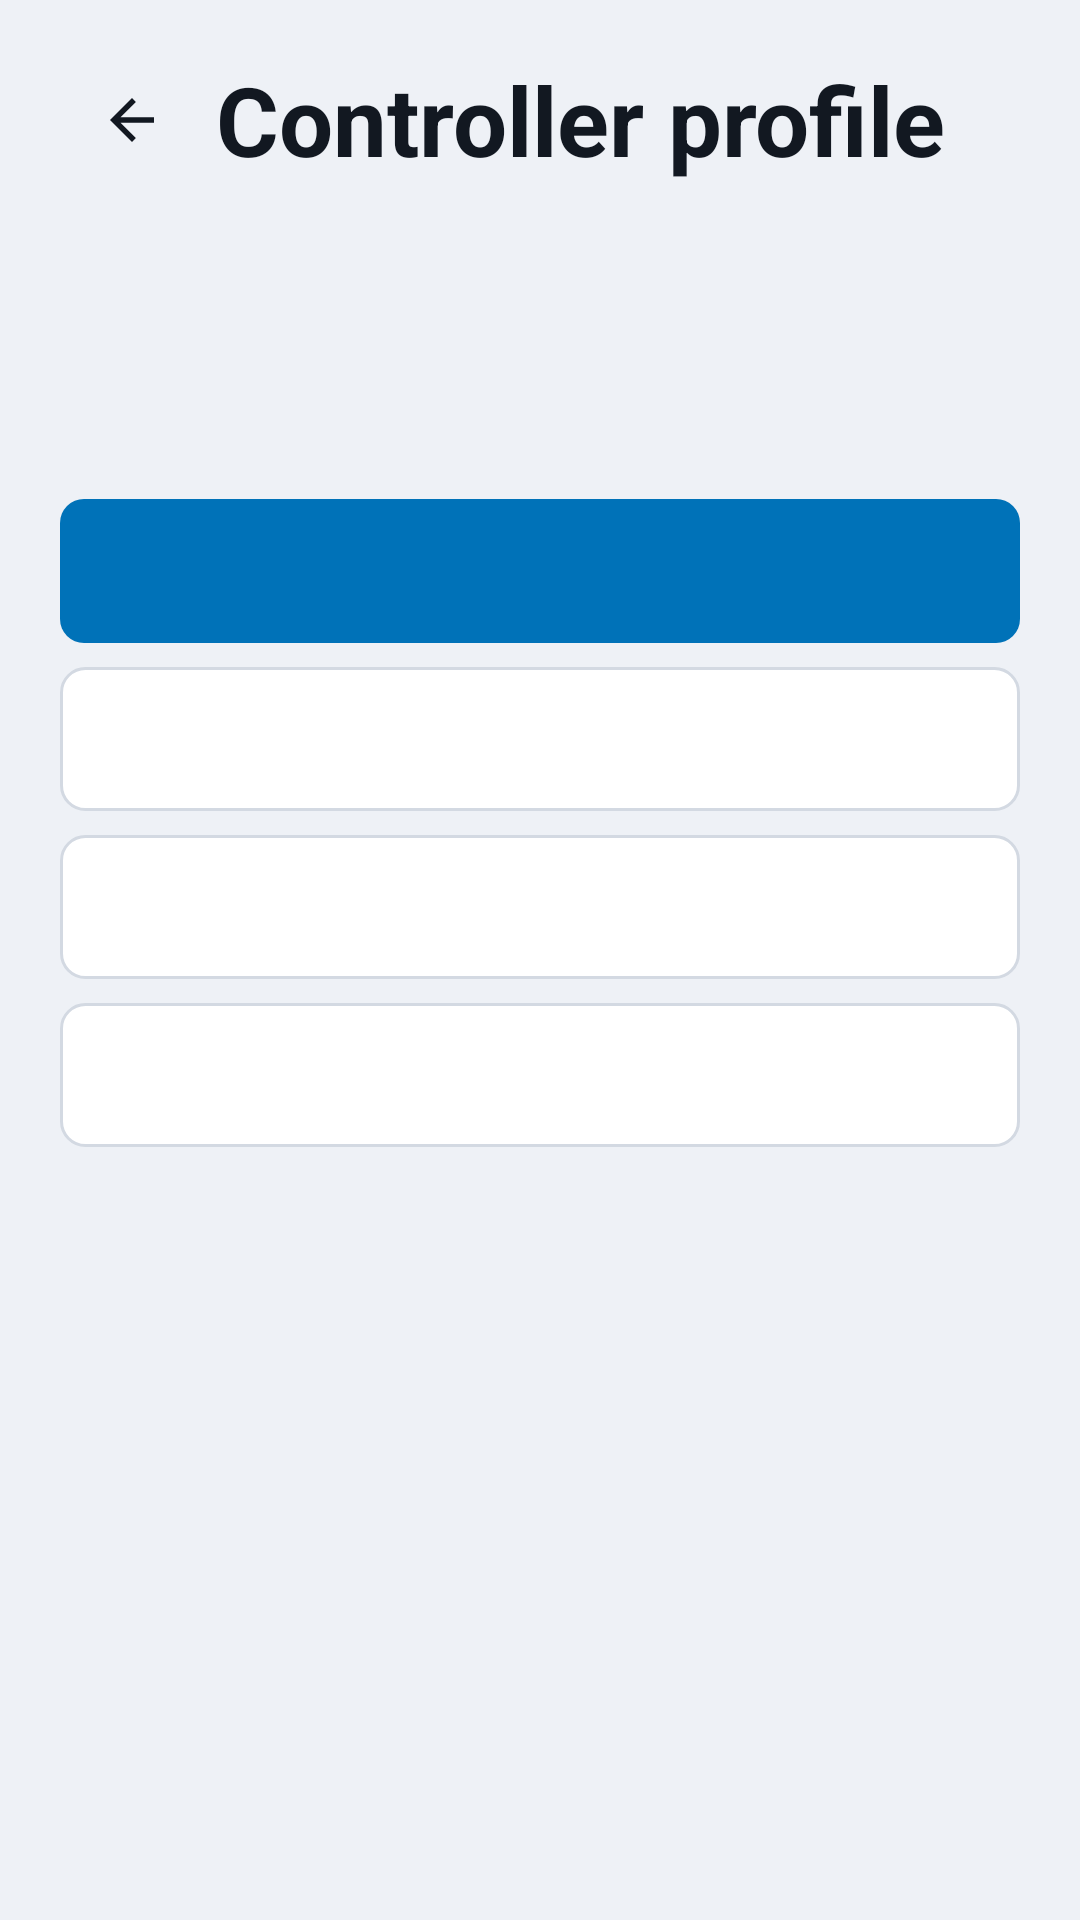

Icon bounding boxes for this 1080 x 1920 phone screenshot, format {"left": x1, "top": y1, "right": x2, "bottom": y2}:
Back: {"left": 110, "top": 98, "right": 154, "bottom": 142}
